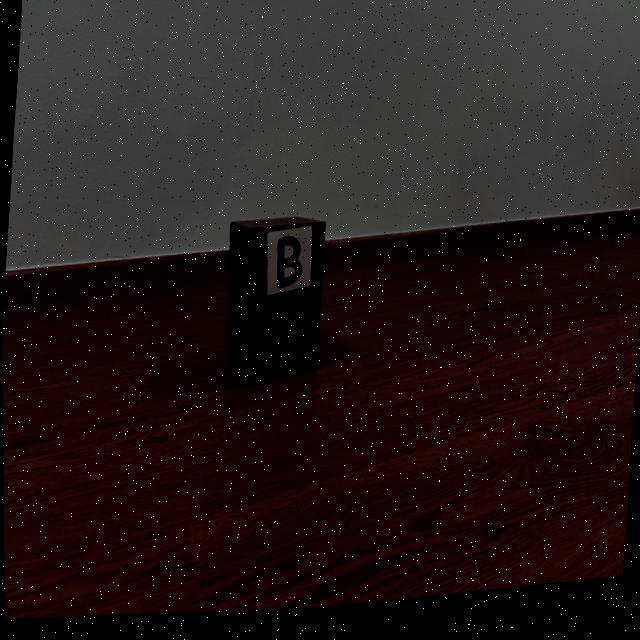B: (276, 242, 301, 294)
